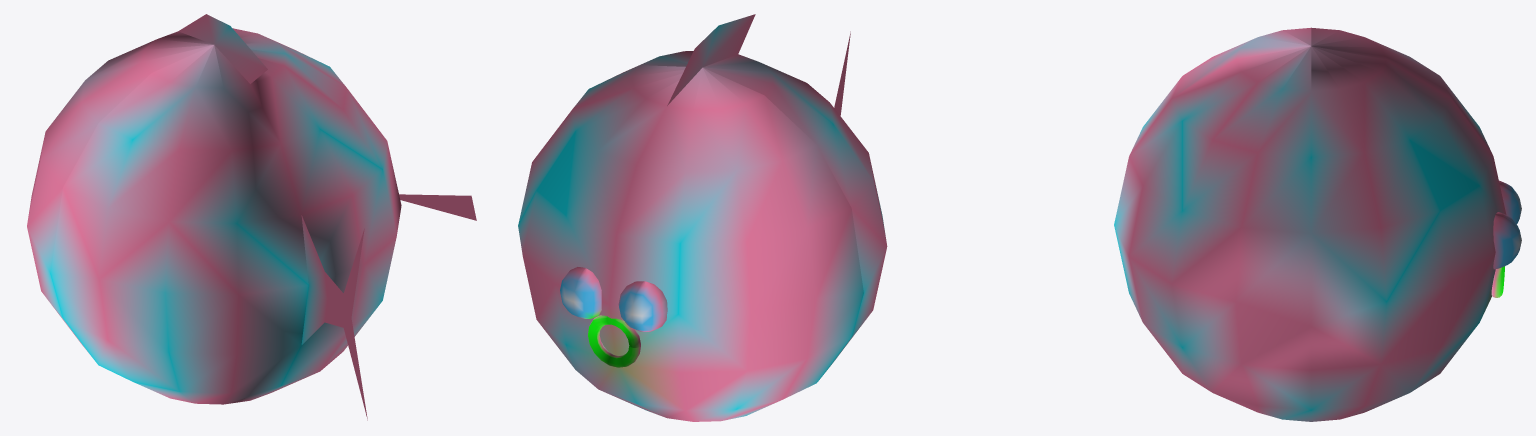
Rendered from bubblefish.glb.
The picture shows the model from 3 angles, left to right: view 1: azimuth 30°, elevation 25°; view 2: azimuth 150°, elevation 25°; view 3: azimuth 270°, elevation 25°; orthographic projection. The views are drawn at different scales.
Visible parts, largest first — view 1: Bubblefish; view 2: Bubblefish; view 3: Bubblefish.
Boxes of the visible parts, x1=… form: Bubblefish: x1=27, y1=14, x2=476, y2=420; Bubblefish: x1=518, y1=14, x2=887, y2=421; Bubblefish: x1=1114, y1=27, x2=1521, y2=421.
Size of the model in its own units: 1.22 by 0.942 by 1.17.
